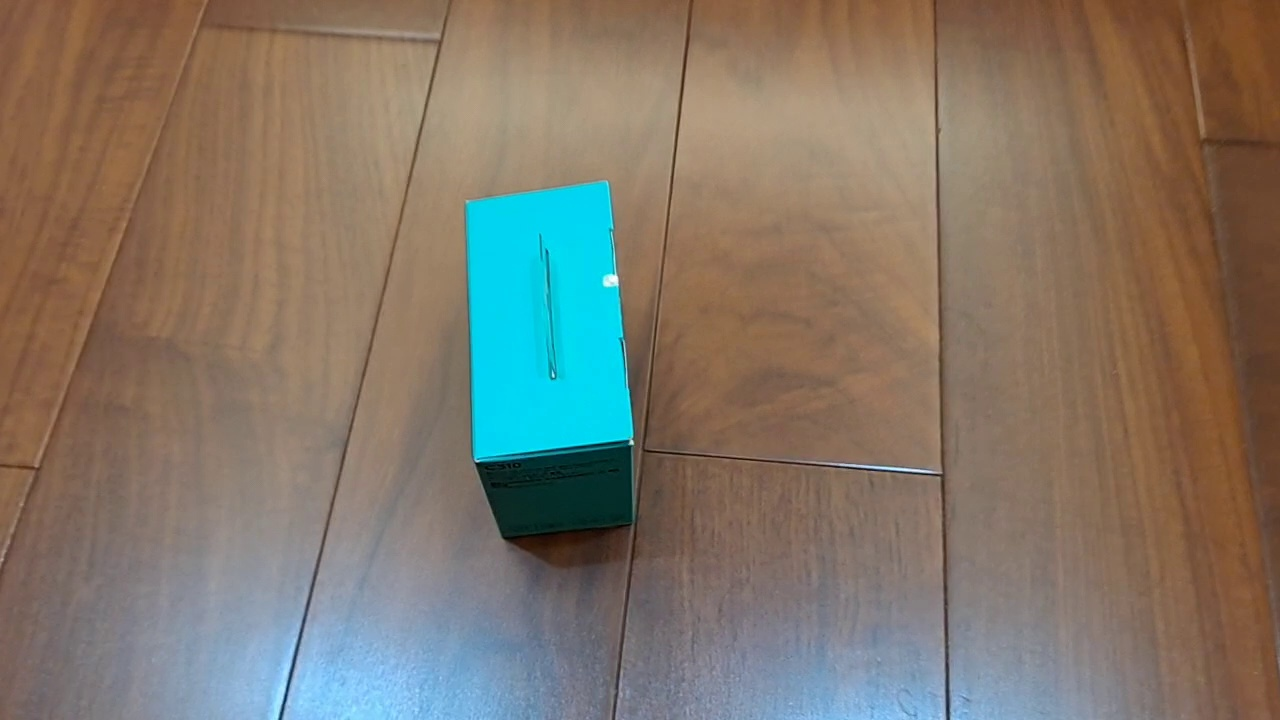webcam: (463, 179, 637, 541)
